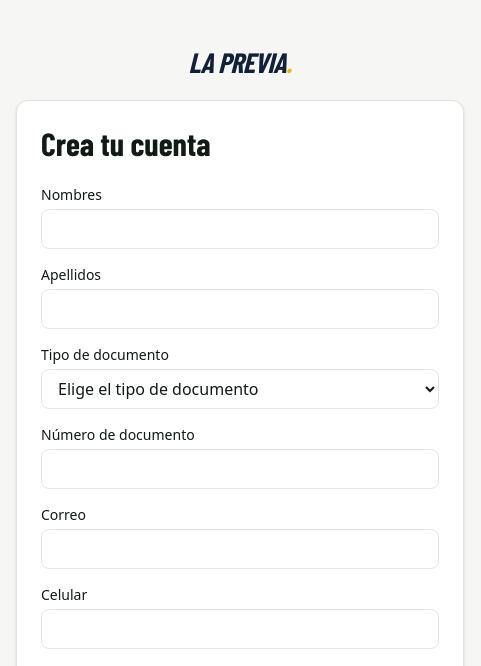
Test case: FormularioRegistro › valida el CE según su formato
The width and height of the screenshot is (481, 666).
Select "CE" in the dropdown labelled "Tipo de documento" at (240, 389), box [41,369,439,409]
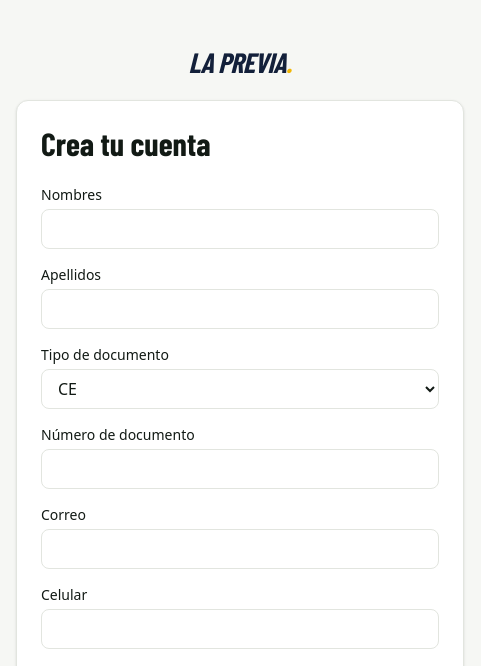
Type "AB123456" into the field labelled "Número de documento" at (240, 469), box [41,449,439,489]
(page scrolled)
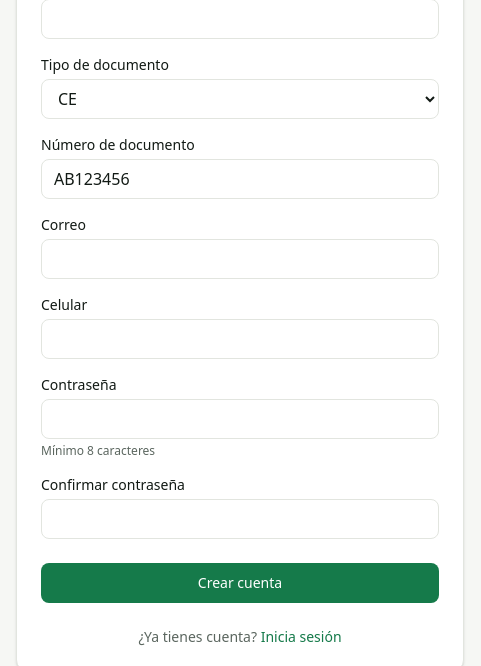
Click the button "Crear cuenta" at (240, 583), box [41,563,439,603]
(page scrolled)
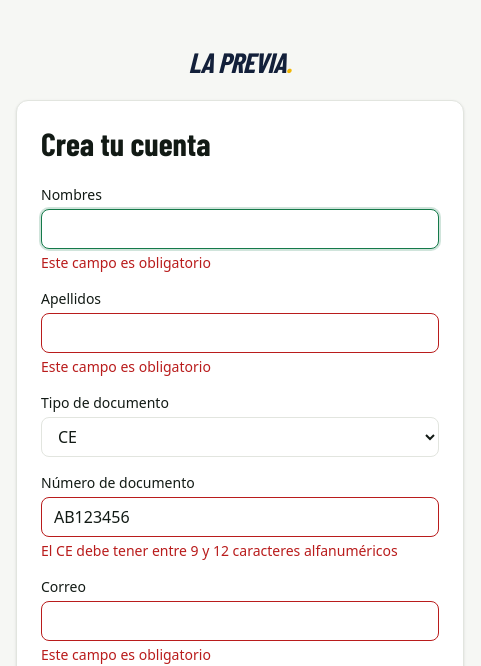
Result: the text "El CE debe tener entre 9 y 12 caracteres alfanuméricos" is shown at [41,541,439,561]
